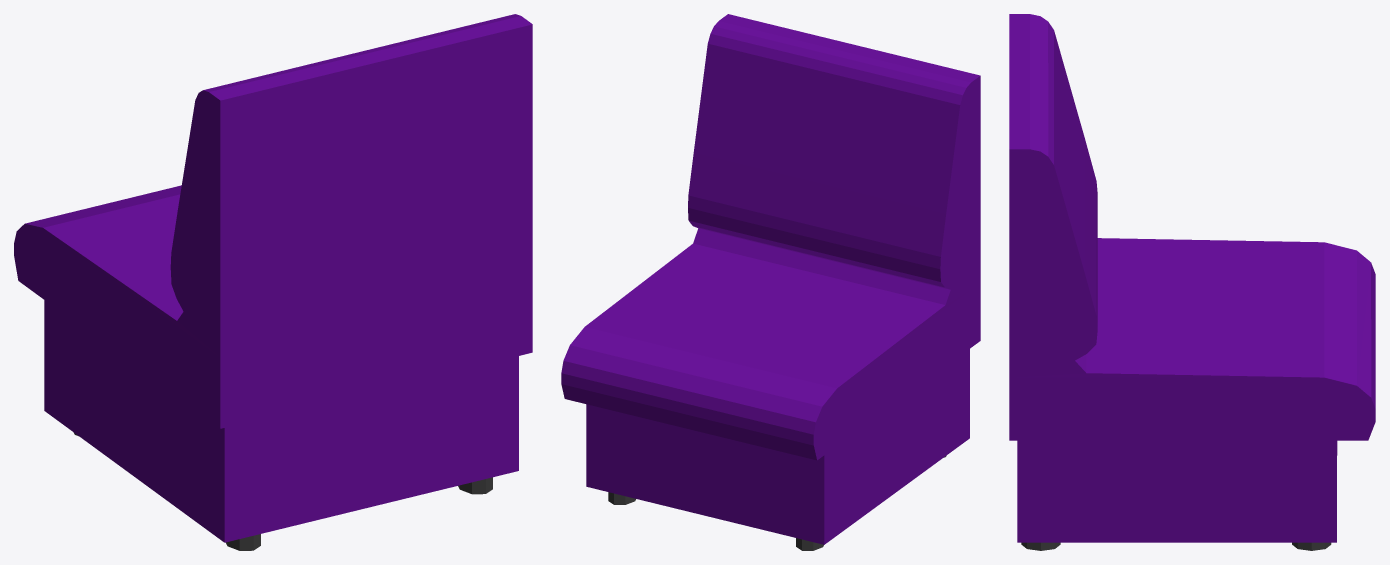
The model's file is soft_chair_visual.dae.
3 views of the same model, side by side, from view 1: azimuth 30°, elevation 25°; view 2: azimuth 150°, elevation 25°; view 3: azimuth 270°, elevation 25° (orthographic). The views are drawn at different scales.
Visible parts, largest first — view 1: Circle; view 2: Circle; view 3: Circle.
Part boxes in pixels (bbox=[...]): Circle: bbox=[14, 14, 532, 550]; Circle: bbox=[561, 14, 980, 550]; Circle: bbox=[1009, 14, 1375, 550].
Size of the model in its own units: 241 by 275 by 342.
